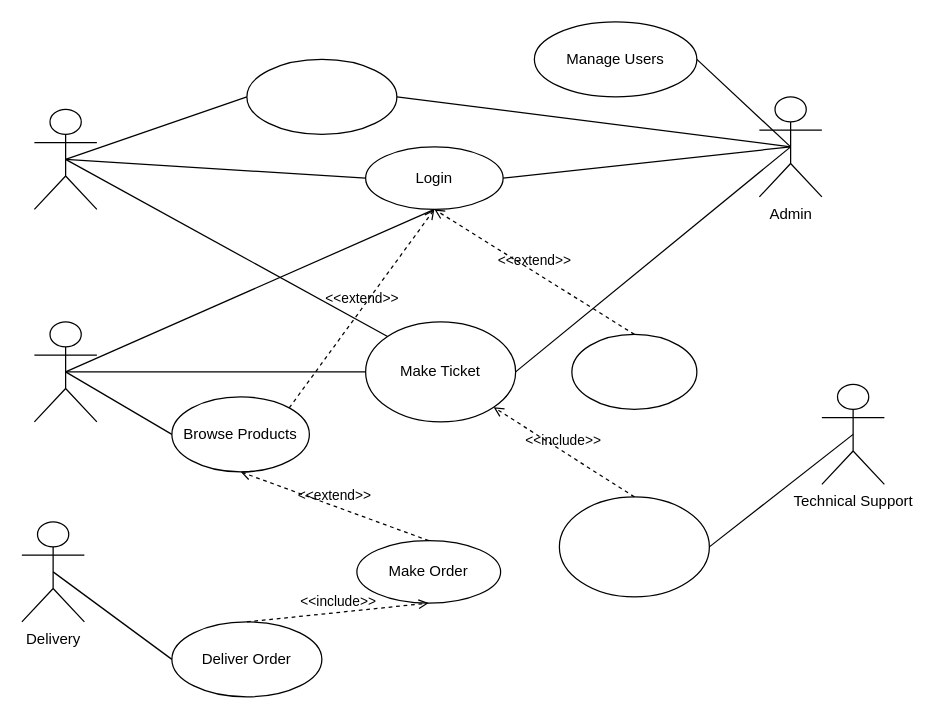
The diagram is 934 pixels wide and 719 high, and some of its shapes have lost their labels. The shapes that lost their labels are listed below. From the top down, each one's centre as x and y in pixels, then its label:
At (321,96): "Manage Products".
At (65,158): "Vendor".
At (65,371): "Customer".
At (634,371): "Register".
At (633,546): "Troubleshooting".
